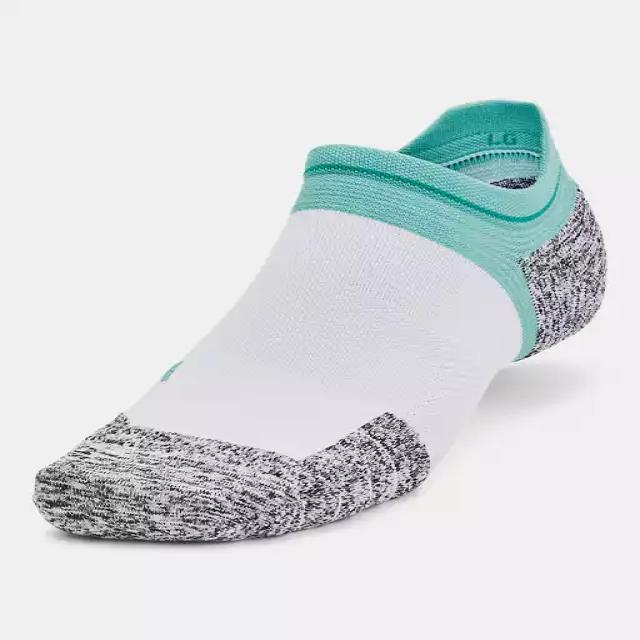sock: (31, 98, 608, 543)
